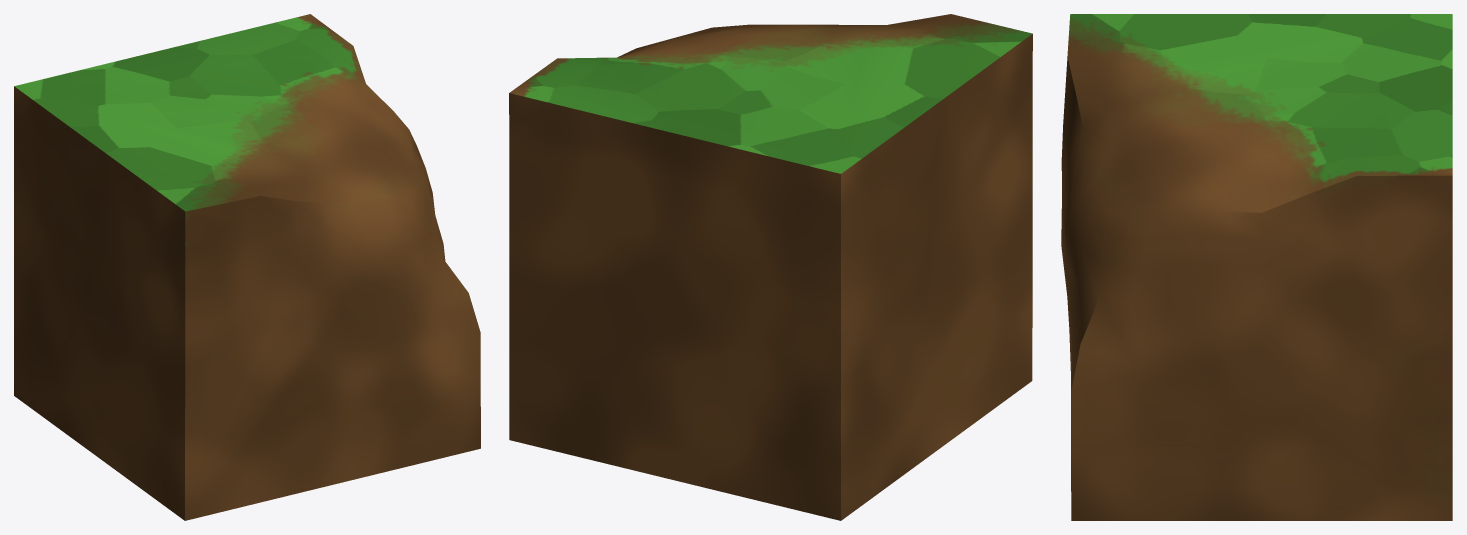
Rendered from TileCorner.fbx.
3 views of the same model, side by side, from view 1: azimuth 30°, elevation 25°; view 2: azimuth 150°, elevation 25°; view 3: azimuth 270°, elevation 25° (orthographic). The views are drawn at different scales.
Parts seen in each view (by area): view 1: TileCorner; view 2: TileCorner; view 3: TileCorner.
Part boxes in pixels (x1,y1,x2,y2): TileCorner: (14,14,480,520); TileCorner: (509,14,1032,520); TileCorner: (1061,14,1452,520).
Bounding box in the file's own units: 200 × 200 × 205.
